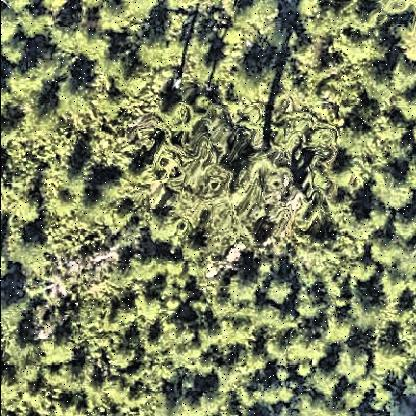tree-top: (135, 31, 185, 79), (125, 247, 177, 289), (213, 313, 259, 359), (371, 339, 414, 385), (5, 62, 49, 106), (253, 374, 299, 416), (4, 183, 42, 229), (332, 343, 373, 385), (375, 171, 414, 215), (349, 280, 389, 321), (39, 334, 79, 373), (322, 313, 359, 351), (370, 235, 408, 271), (294, 292, 330, 329), (226, 272, 262, 307), (19, 7, 56, 41), (312, 369, 344, 401), (136, 294, 168, 326), (264, 278, 296, 309), (398, 15, 416, 69), (1, 37, 30, 68), (389, 62, 416, 94), (299, 395, 337, 416), (393, 213, 416, 246), (375, 1, 416, 18), (206, 391, 230, 416), (405, 152, 416, 197), (41, 1, 73, 15), (232, 74, 260, 88)
